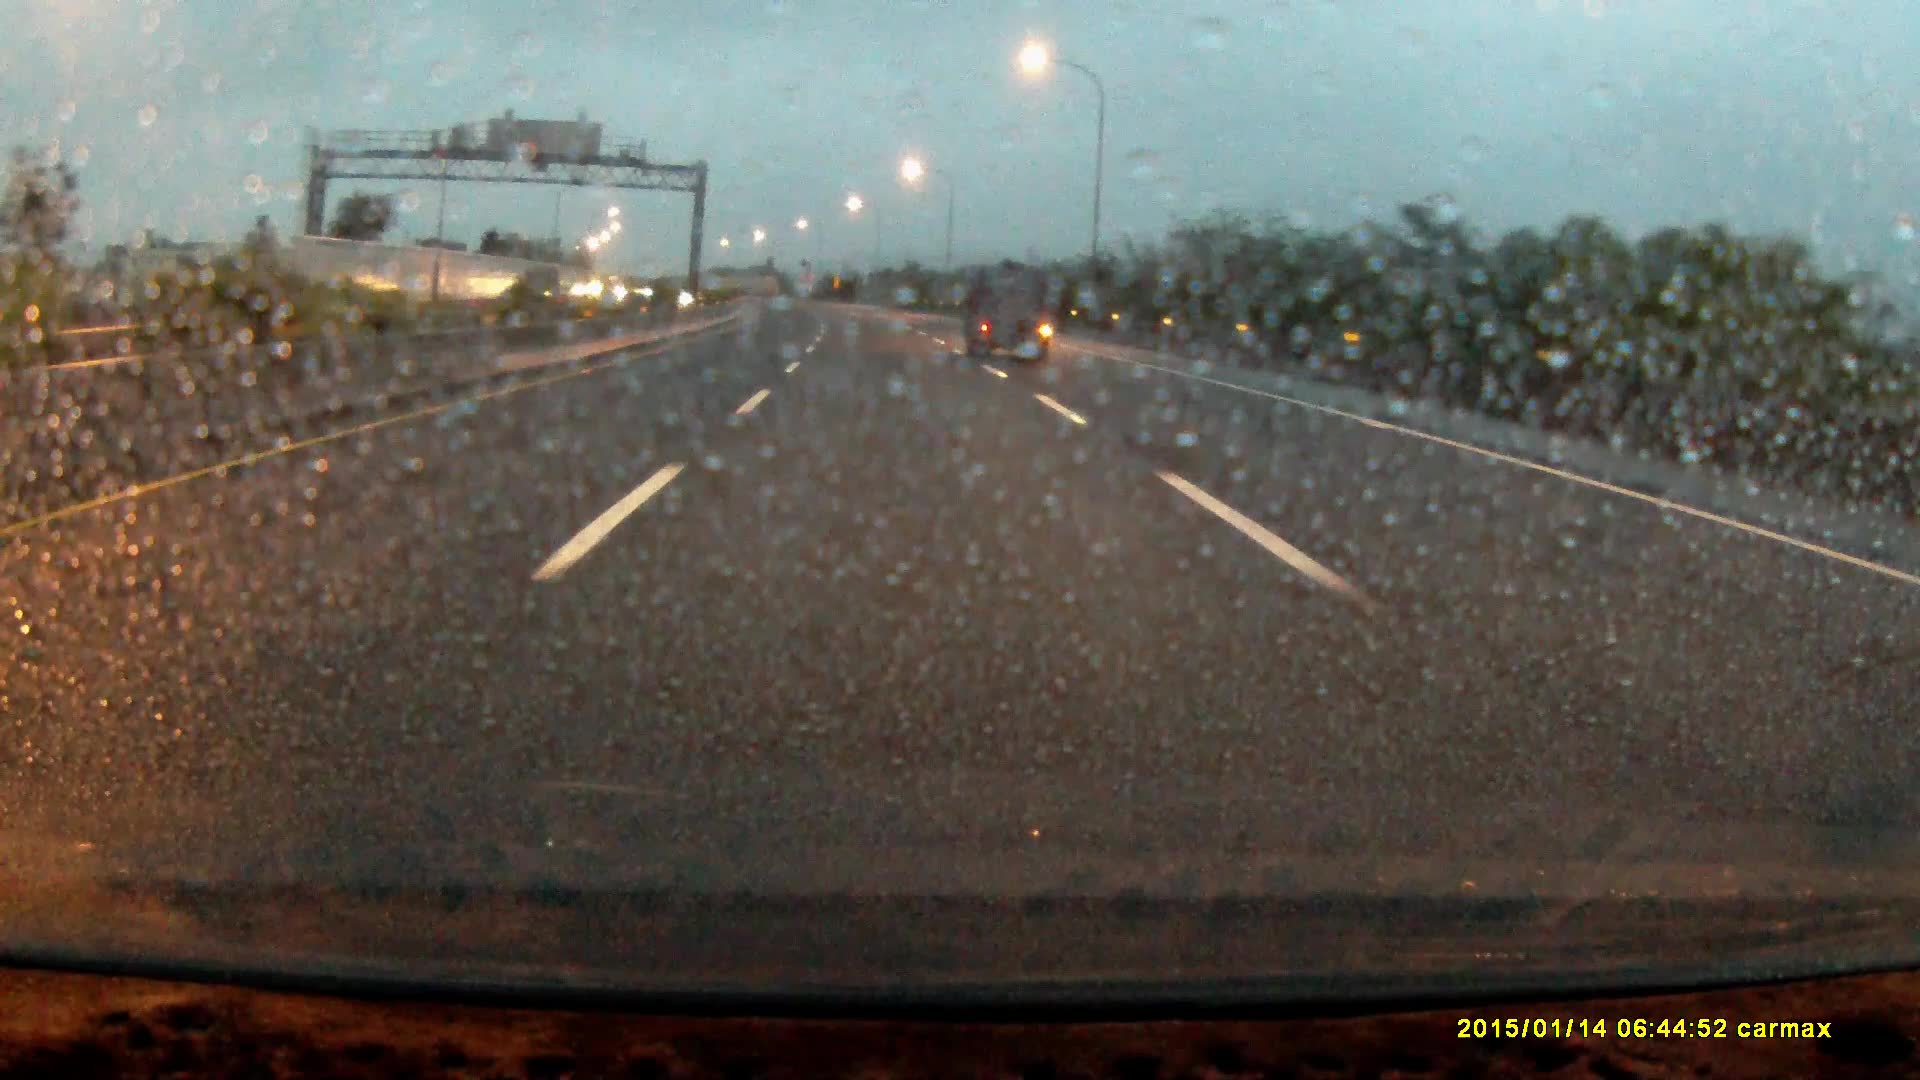vehicle: (969, 272, 1056, 363), (520, 266, 582, 311)
